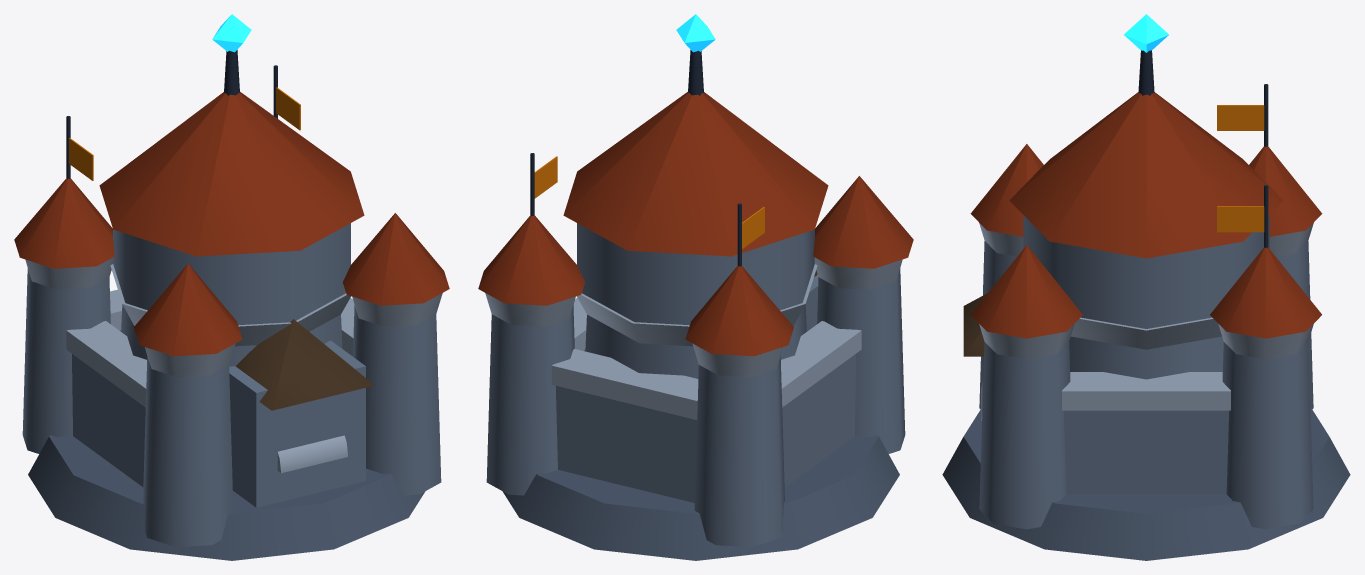
Rendered from fortress_sol_heights.glb.
3 renders of one model, left to right at view 1: azimuth 30°, elevation 25°; view 2: azimuth 150°, elevation 25°; view 3: azimuth 270°, elevation 25°, orthographic.
Parts seen in each view (by area): view 1: Fortress_Sol_Heights; view 2: Fortress_Sol_Heights; view 3: Fortress_Sol_Heights.
Boxes of the visible parts, x1,y1,x2,y2 form: Fortress_Sol_Heights: (14,14,449,560); Fortress_Sol_Heights: (478,14,913,560); Fortress_Sol_Heights: (942,14,1350,560).
Bounding box in the file's own units: 11.6 × 14.45 × 11.6.
